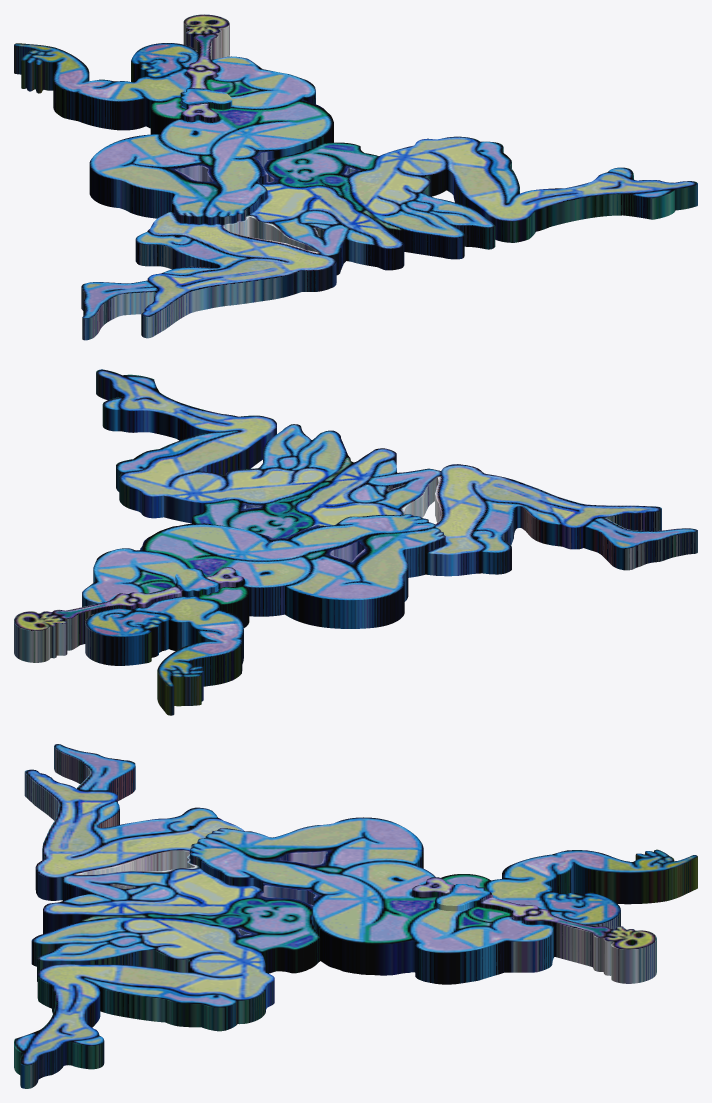
Rendered from muro de la carne 5.dae.
3 renders of one model, top to bottom at view 1: azimuth 30°, elevation 25°; view 2: azimuth 150°, elevation 25°; view 3: azimuth 270°, elevation 25°, orthographic. The views are drawn at different scales.
Visible parts, largest first — view 1: SketchUp (×3); view 2: SketchUp (×2); view 3: SketchUp (×3).
Boxes of the visible parts, <box> form: SketchUp (×3): <box>14,14,697,340</box>; SketchUp (×2): <box>14,369,697,715</box>; SketchUp (×3): <box>14,744,697,1088</box>.
Bounding box in the file's own units: 55.87 × 50.2 × 2.94.
